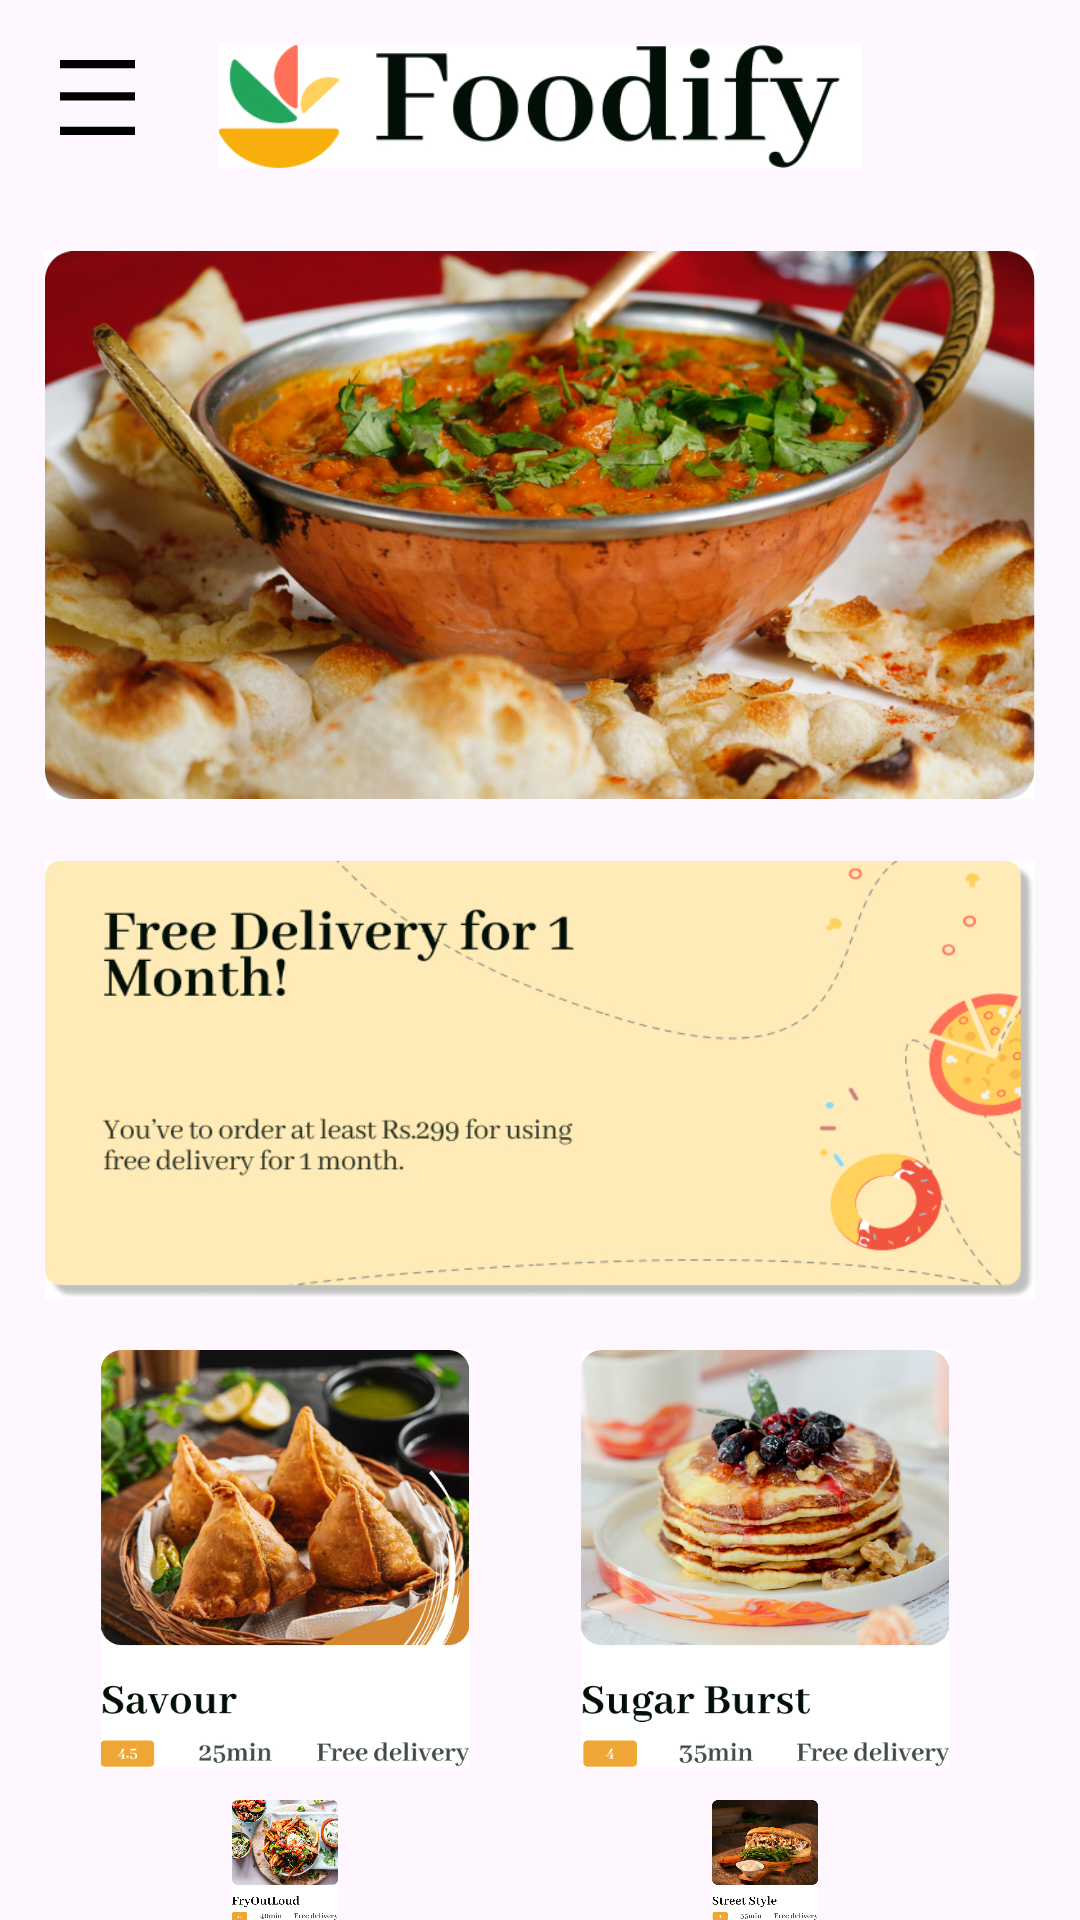

Locate icon controls on the screen. Image size 1080×1920, boxes as (x1, y1, x2, y2).
opendrawer: (60, 60, 135, 135)
